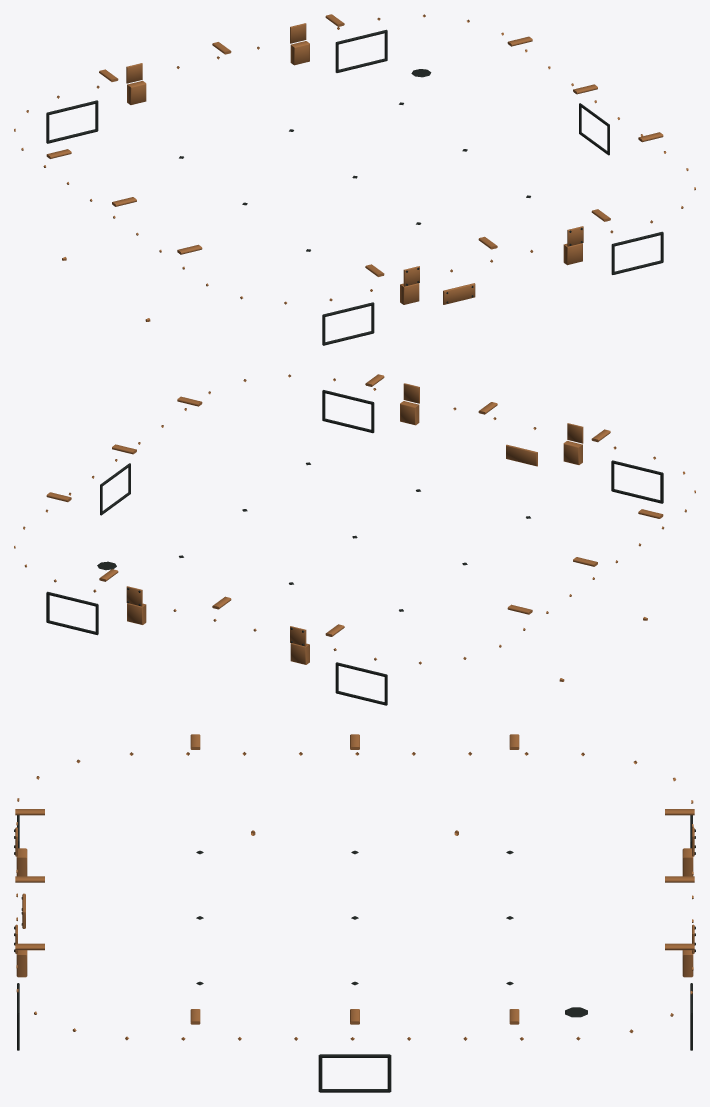
The model's file is barge_detail2.glb.
3 renders of one model, top to bottom at view 1: azimuth 30°, elevation 25°; view 2: azimuth 150°, elevation 25°; view 3: azimuth 270°, elevation 25°, orthographic. The views are drawn at different scales.
Visible parts, largest first — view 1: Detail2; view 2: Detail2; view 3: Detail2.
Boxes of the visible parts, <box> form: Detail2: <box>14,14,695,345</box>; Detail2: <box>14,374,695,705</box>; Detail2: <box>14,734,695,1092</box>.
Size of the model in its own units: 15.64 by 2.63 by 15.4.
